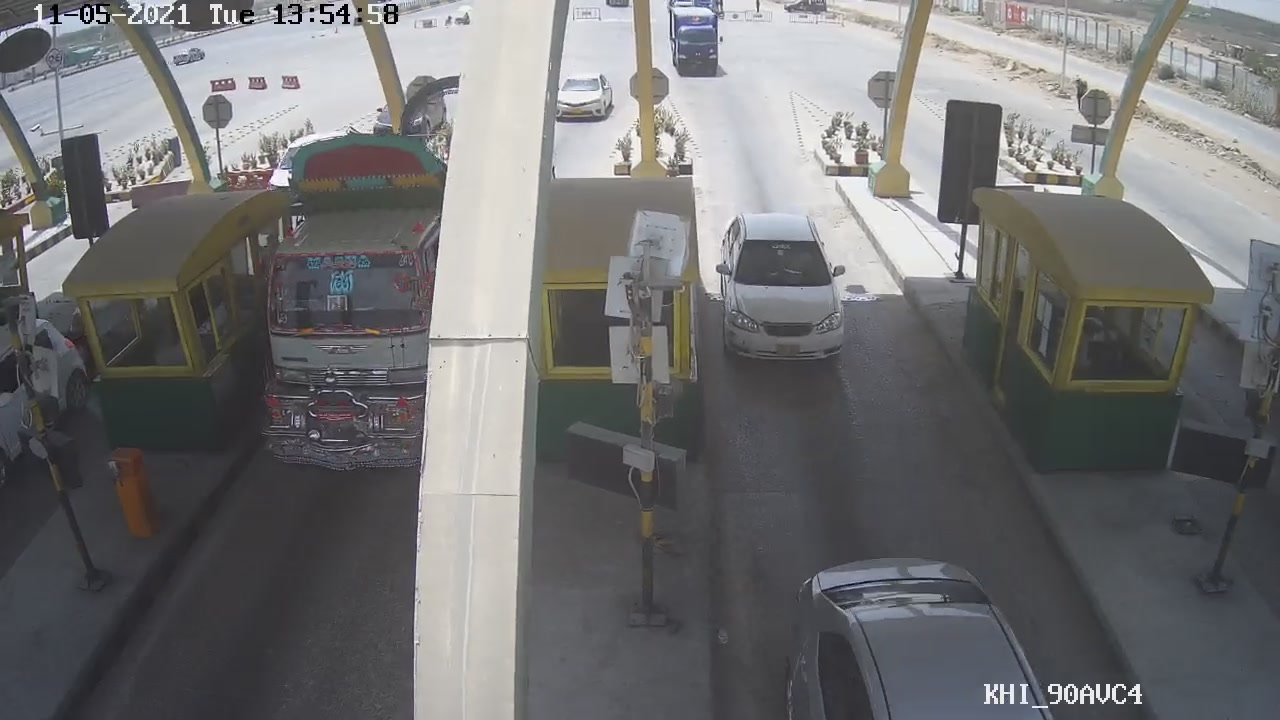F1: (716, 205, 854, 379)
